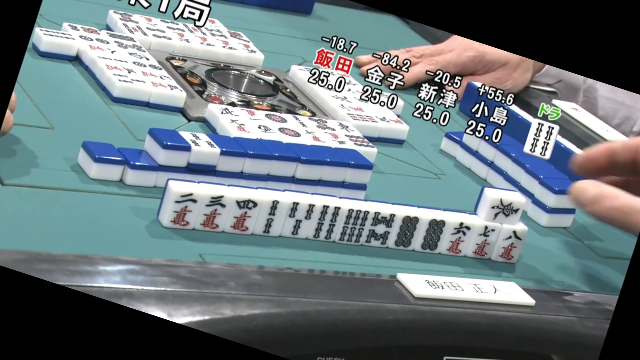Tehai: (162, 175, 526, 268)
